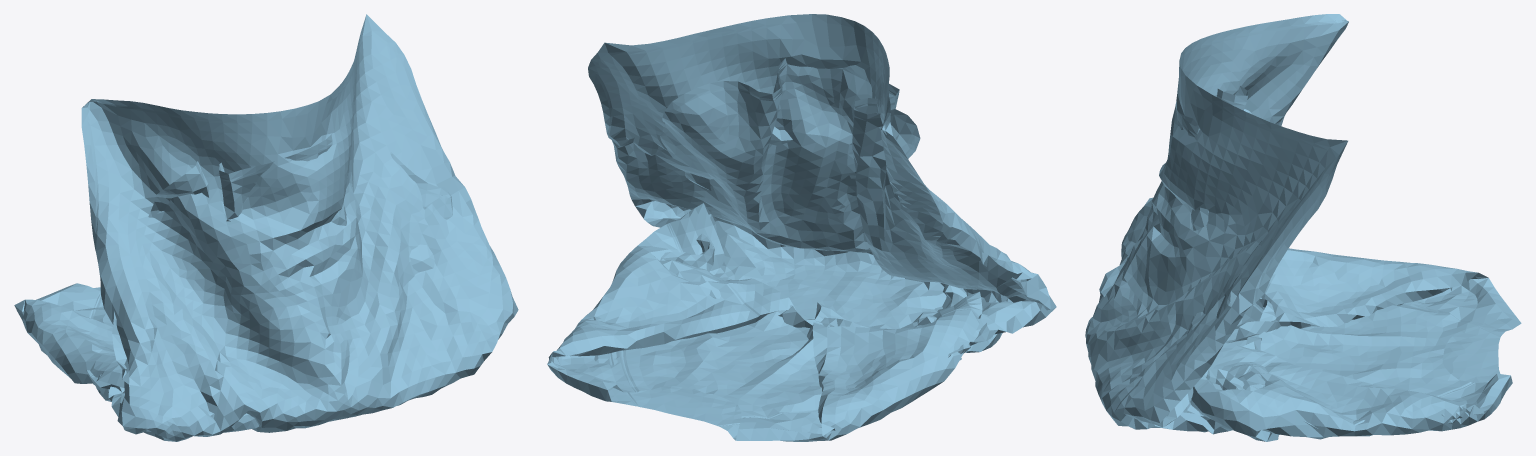
Rendered from frame_15.glb.
3 views of the same model, side by side, from view 1: azimuth 30°, elevation 25°; view 2: azimuth 150°, elevation 25°; view 3: azimuth 270°, elevation 25° (orthographic). The views are drawn at different scales.
Parts seen in each view (by area): view 1: frame_15.obj; view 2: frame_15.obj; view 3: frame_15.obj.
Part boxes in pixels (x1,y1,x2,y2): frame_15.obj: (14,14,518,441); frame_15.obj: (547,14,1056,441); frame_15.obj: (1085,14,1521,441).
Size of the model in its own units: 1.16 by 0.7977 by 1.04.
